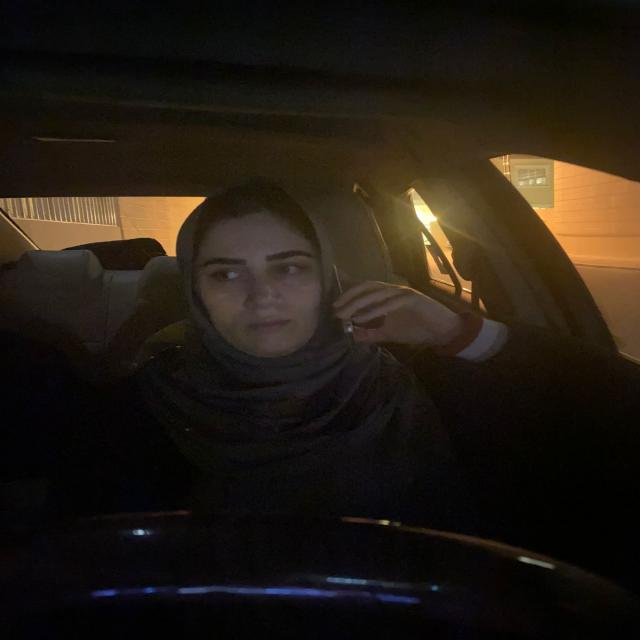mobile: (324, 269, 366, 356)
person: (171, 173, 361, 368)
